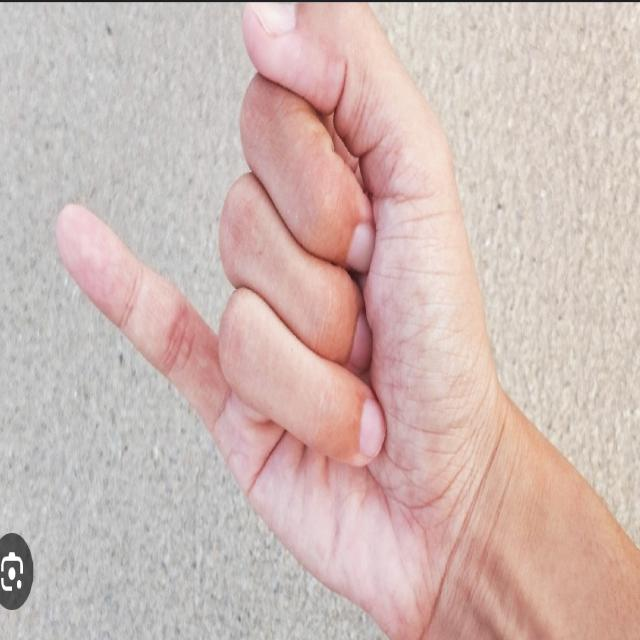pinky: (51, 185, 232, 430)
